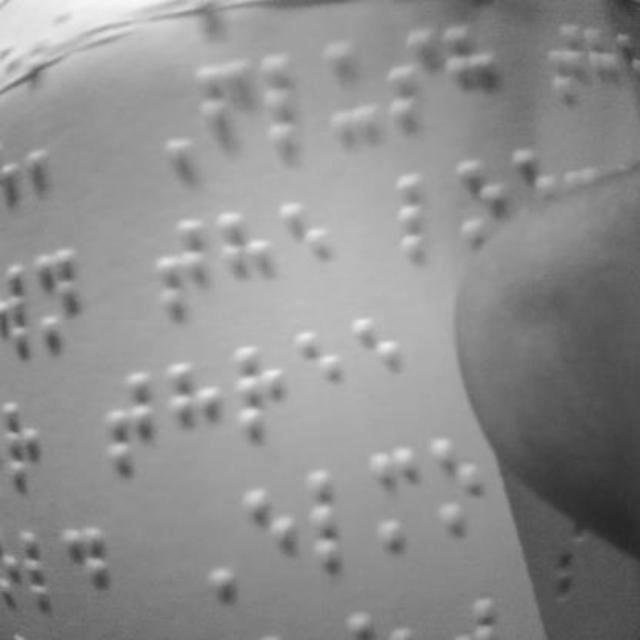braiile: (30, 90, 86, 220), (104, 366, 164, 486), (34, 241, 92, 361), (3, 387, 63, 503), (217, 202, 273, 322), (168, 351, 222, 474), (426, 432, 489, 536), (308, 463, 368, 572), (200, 58, 256, 174), (325, 34, 383, 146), (234, 340, 294, 448), (385, 24, 443, 134), (278, 198, 332, 316), (244, 476, 300, 588), (366, 442, 422, 554), (396, 162, 456, 266), (262, 47, 318, 157), (154, 210, 208, 322), (446, 21, 504, 125), (354, 311, 406, 421), (298, 330, 348, 440)
